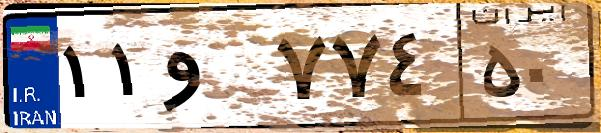0: (525, 38, 570, 115)
1: (57, 26, 110, 100), (110, 28, 158, 98)
4: (385, 28, 445, 110)
5: (475, 38, 525, 113)
7: (270, 28, 330, 110), (330, 28, 385, 110)
و: (158, 20, 270, 120)
